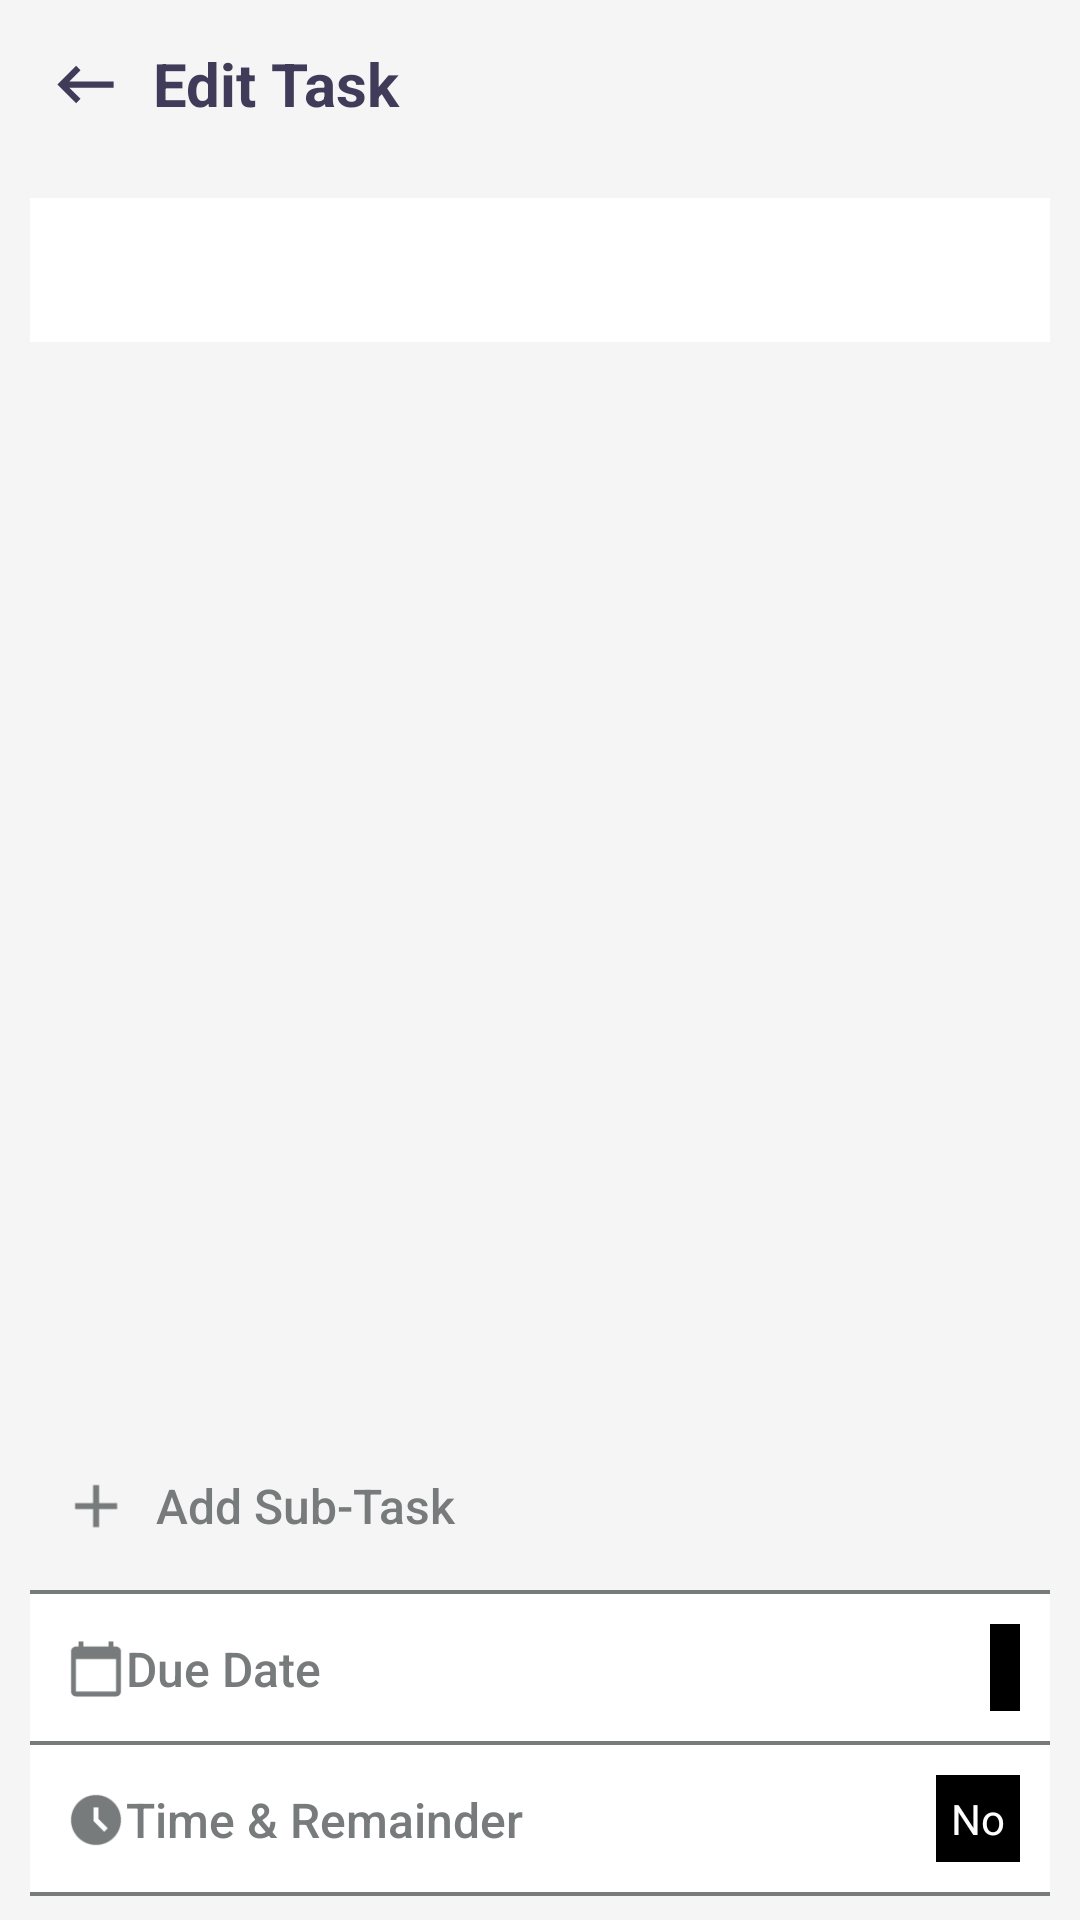

Screen size 1080 × 1920. Icon name, then its box in pixels as {"left": x1, "top": y1, "right": x2, "bottom": y2}:
back: {"left": 57, "top": 66, "right": 114, "bottom": 103}
